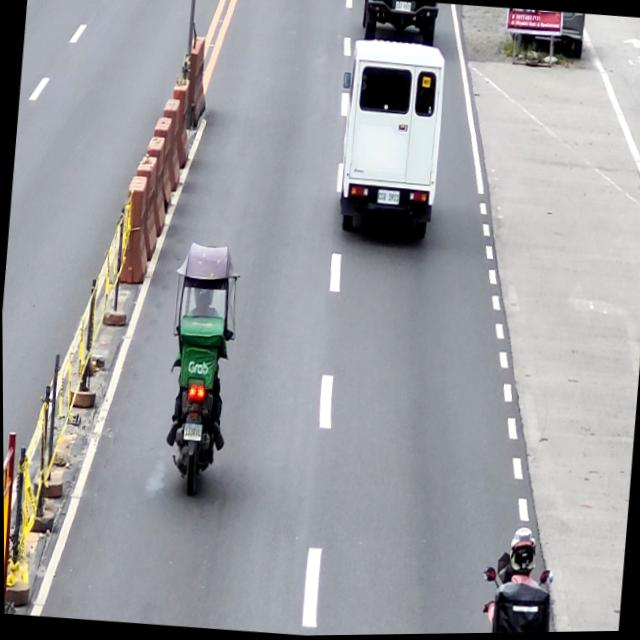Car: (328, 35, 449, 246)
License-Plate: (377, 189, 400, 208), (182, 423, 202, 443)
Motorcycle: (159, 314, 234, 500)
